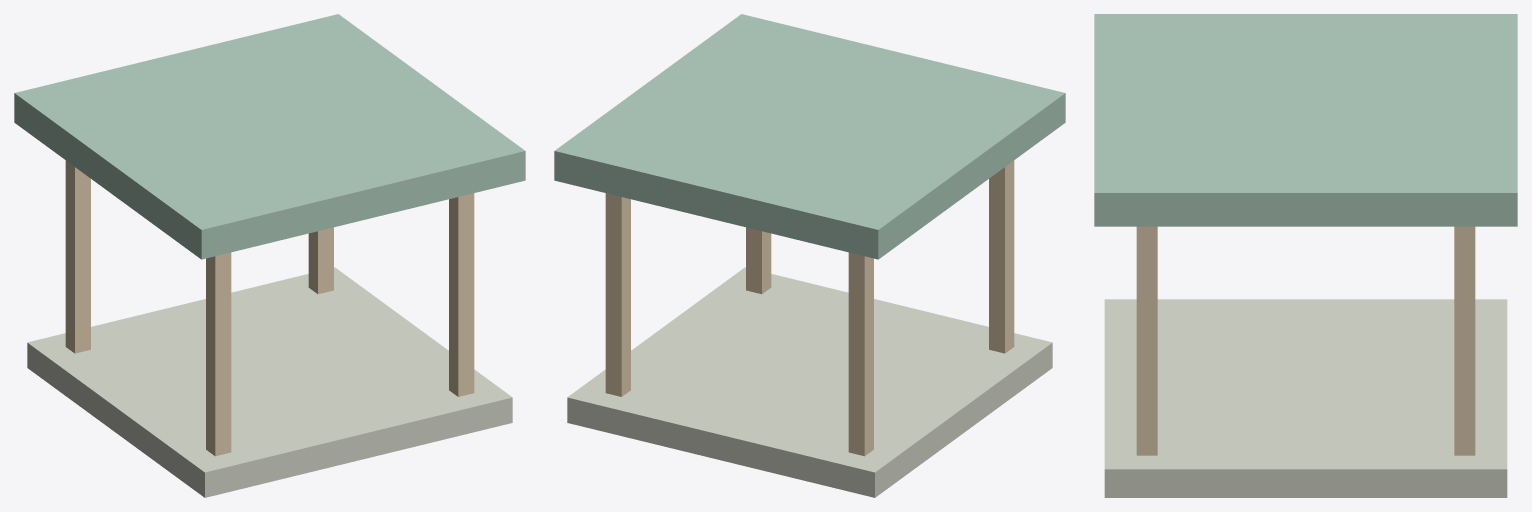
The model's file is grid-pavilion.glb.
3 renders of one model, left to right at view 1: azimuth 30°, elevation 25°; view 2: azimuth 150°, elevation 25°; view 3: azimuth 270°, elevation 25°, orthographic. The views are drawn at different scales.
Visible parts, largest first — view 1: 屋顶, 底座, 支柱 (×4); view 2: 屋顶, 底座, 支柱 (×4); view 3: 屋顶, 底座, 支柱 (×2).
Boxes of the visible parts, <box> form: 屋顶: <box>14,14,525,259</box>; 底座: <box>27,267,512,497</box>; 支柱 (×4): <box>65,160,474,456</box>; 屋顶: <box>554,14,1065,259</box>; 底座: <box>567,267,1052,497</box>; 支柱 (×4): <box>605,160,1014,456</box>; 屋顶: <box>1094,14,1517,226</box>; 底座: <box>1104,299,1507,497</box>; 支柱 (×2): <box>1136,226,1475,455</box>.
Size of the model in its own units: 4 by 3.22 by 4.
